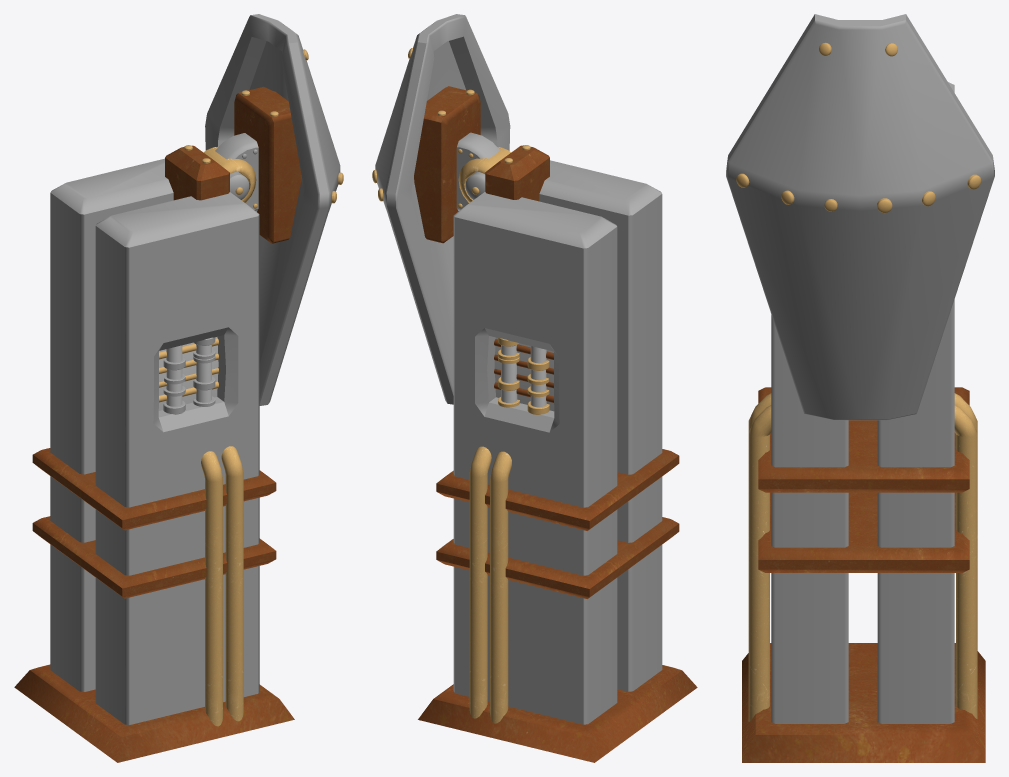
Rendered from Bridge_02b.fbx.
The picture shows the model from 3 angles, left to right: view 1: azimuth 30°, elevation 25°; view 2: azimuth 150°, elevation 25°; view 3: azimuth 270°, elevation 25°; orthographic projection. The views are drawn at different scales.
Parts seen in each view (by area): view 1: Bridge_02b; view 2: Bridge_02b; view 3: Bridge_02b.
Boxes of the visible parts, bbox=[...] form: Bridge_02b: bbox=[14, 14, 343, 762]; Bridge_02b: bbox=[372, 14, 697, 762]; Bridge_02b: bbox=[726, 14, 994, 762].
Bounding box in the file's own units: 144 × 347 × 111.
